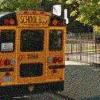buses: (0, 8, 66, 96)
